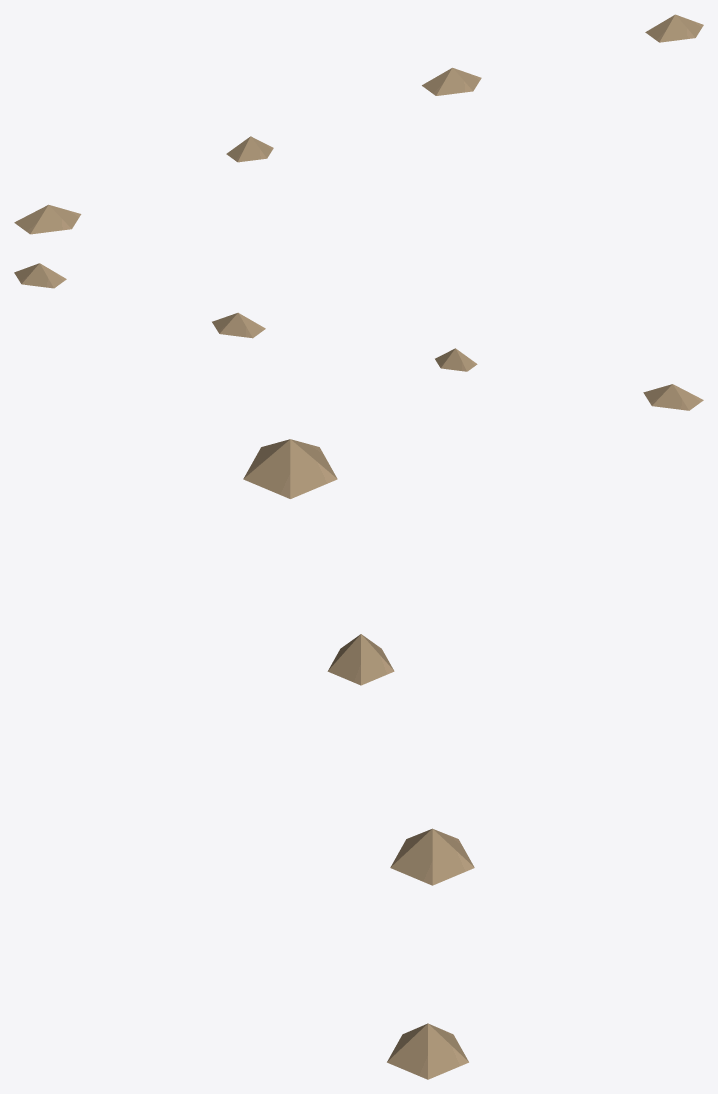
Rendered from shell-line-mid.glb.
The picture shows the model from 3 angles, top to bottom: view 1: azimuth 30°, elevation 25°; view 2: azimuth 150°, elevation 25°; view 3: azimuth 270°, elevation 25°; orthographic projection. The views are drawn at different scales.
Visible parts, largest first — view 1: shell-line.001; view 2: shell-line.001; view 3: shell-line.001.
Boxes of the visible parts, x1,y1,x2,y2 form: shell-line.001: (14, 14, 703, 234); shell-line.001: (14, 263, 703, 410); shell-line.001: (243, 439, 474, 1079).
Bounding box in the file's own units: 1.43 × 0.033 × 0.2213.
Materials: 1 (1 with a texture image).
